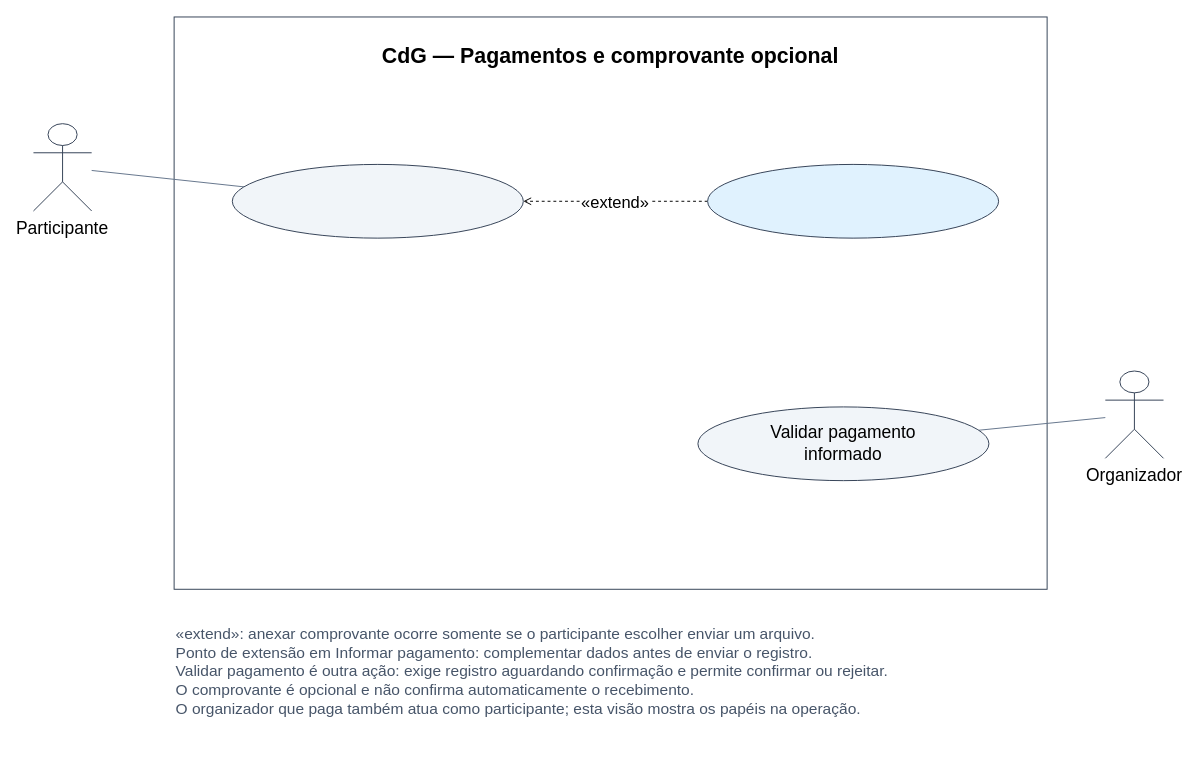
The diagram is 1200 pixels wide and 781 high, and some of its shapes have lost their labels. Here are the shapes that lost their labels. From the top down, the centre of each, then its label:
the point at 377,200: Informar pagamento realizado
the point at 853,200: Anexar comprovante
